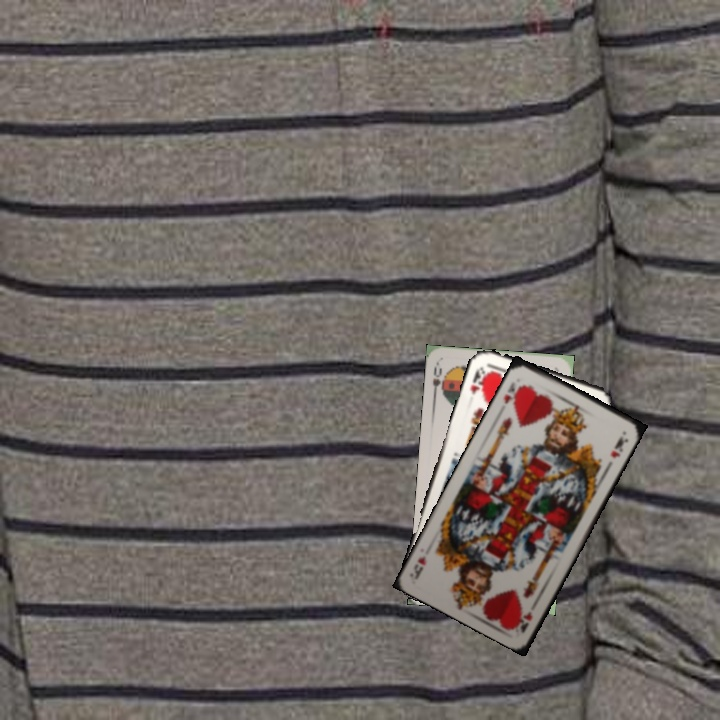HK: (465, 363, 490, 397), (500, 377, 526, 407), (512, 607, 535, 635)
SO: (429, 360, 447, 401)
